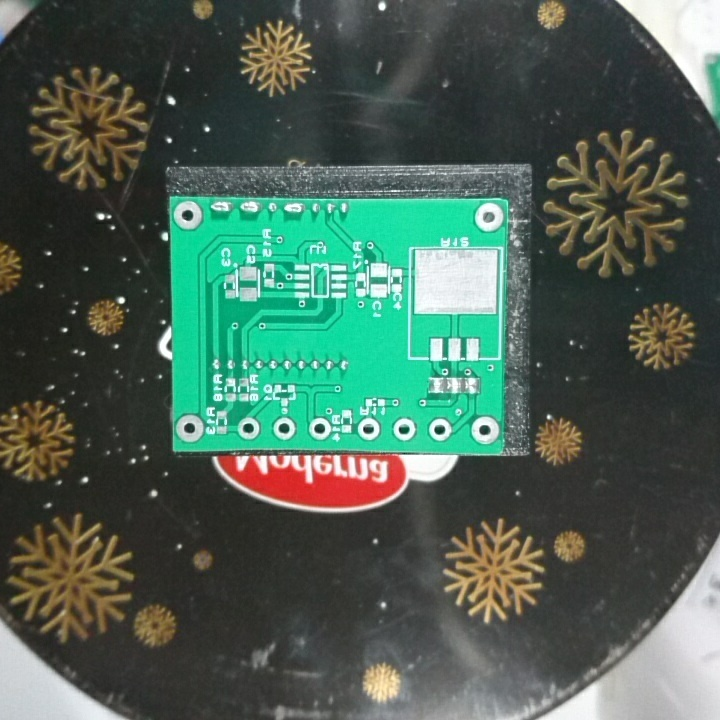F: (172, 198, 205, 232), (173, 412, 206, 445), (472, 201, 505, 233), (469, 415, 500, 446), (271, 415, 299, 443), (234, 415, 262, 442), (426, 416, 454, 443), (391, 416, 418, 443), (306, 415, 331, 442), (356, 415, 379, 443)
P: (279, 200, 305, 220), (206, 198, 234, 216), (238, 200, 265, 216)
